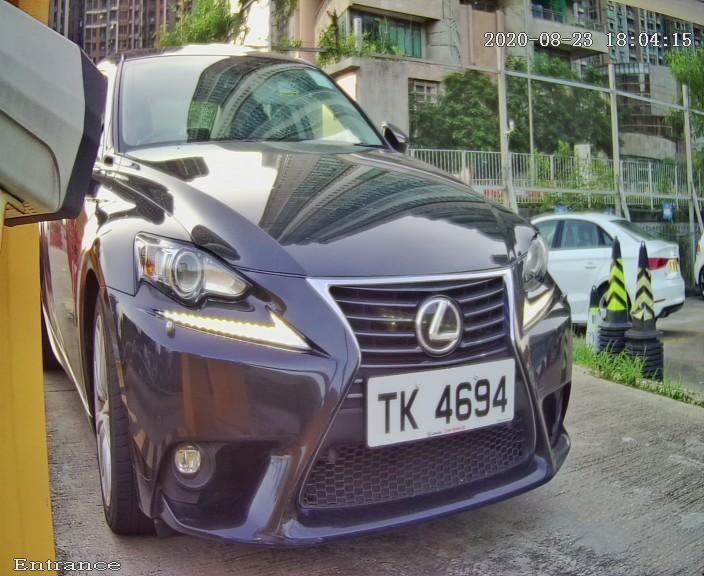Car: (38, 6, 604, 576)
License Plate: (354, 330, 534, 463)
